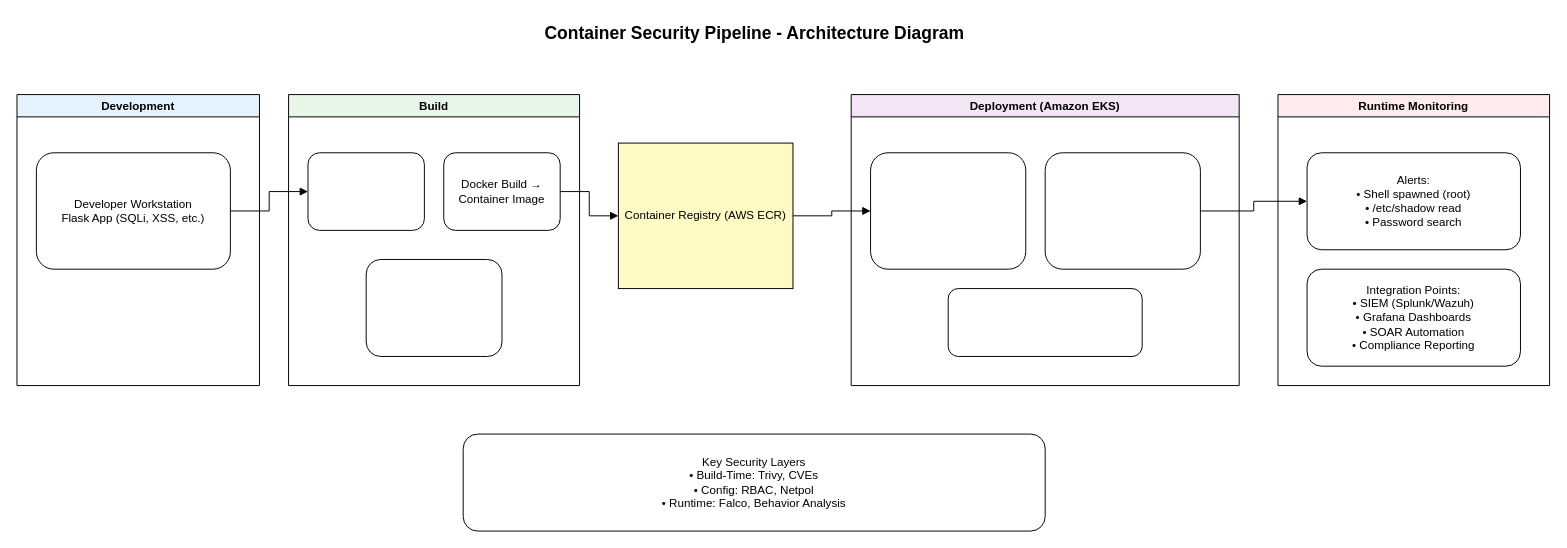
This 1567x548 diagram has some shape labels left out. Each missing label, with the centre of its shape:
Dockerfile (runs as root, secrets in env): (x=365, y=191)
LoadBalancer Service (Internet, port 80): (x=1044, y=322)
Trivy Scanner 88 Vulns (3 CRIT, 13 HIGH...): (x=433, y=307)
Worker Node 1 • Flask App Pod (root, port 5000) • Falco DaemonSet: (x=948, y=210)
Worker Node 2 • Flask App Pod (root, port 5000) • Falco DaemonSet: (x=1122, y=210)
